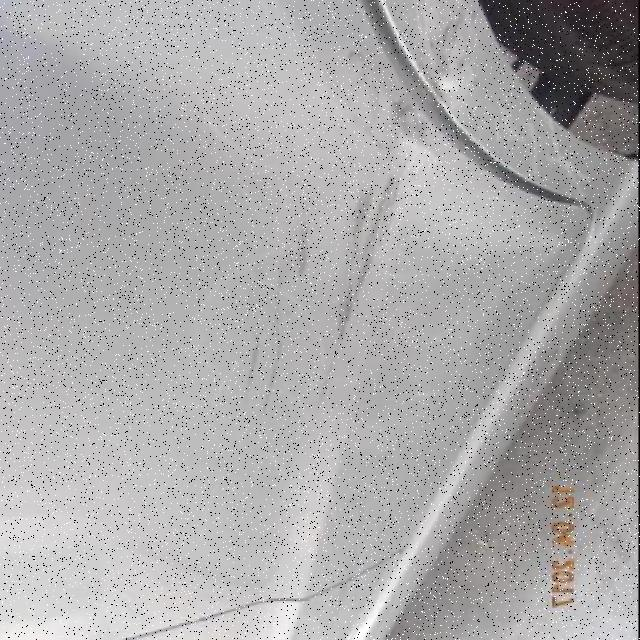damage: (306, 45, 427, 408), (374, 192, 561, 374), (236, 220, 309, 422), (409, 5, 494, 114)
